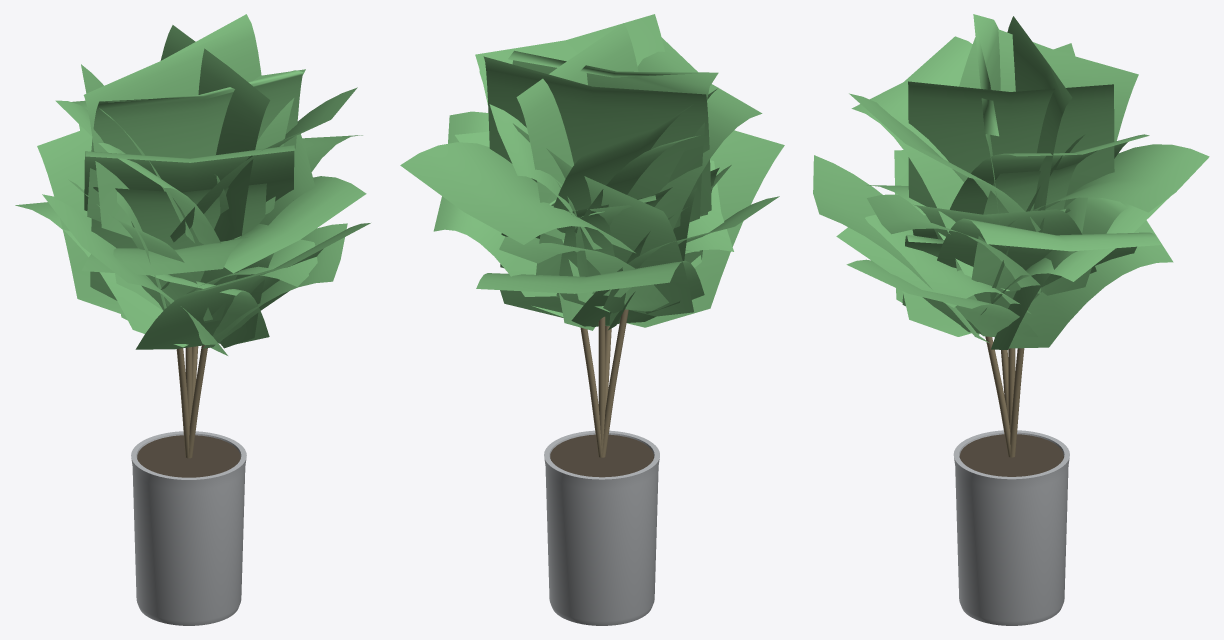
Rendered from ref_palm.fbx.
3 views of the same model, side by side, from view 1: azimuth 30°, elevation 25°; view 2: azimuth 150°, elevation 25°; view 3: azimuth 270°, elevation 25° (orthographic).
Parts seen in each view (by area): view 1: EQ_ref_palm_M_PalmFrond, EQ_ref_palm_M_PlanterGrey, EQ_ref_palm_M_Soil, EQ_ref_palm_M_Stem; view 2: EQ_ref_palm_M_PalmFrond, EQ_ref_palm_M_PlanterGrey, EQ_ref_palm_M_Soil, EQ_ref_palm_M_Stem; view 3: EQ_ref_palm_M_PalmFrond, EQ_ref_palm_M_PlanterGrey, EQ_ref_palm_M_Soil, EQ_ref_palm_M_Stem.
Boxes of the visible parts, x1,y1,x2,y2 form: EQ_ref_palm_M_PalmFrond: (15,14,370,355); EQ_ref_palm_M_PlanterGrey: (131,431,246,625); EQ_ref_palm_M_Soil: (137,435,240,477); EQ_ref_palm_M_Stem: (176,345,207,458); EQ_ref_palm_M_PalmFrond: (400,14,784,330); EQ_ref_palm_M_PlanterGrey: (544,430,659,625); EQ_ref_palm_M_Soil: (550,434,653,477); EQ_ref_palm_M_Stem: (580,309,628,457); EQ_ref_palm_M_PalmFrond: (813,14,1209,349); EQ_ref_palm_M_PlanterGrey: (953,430,1069,625); EQ_ref_palm_M_Soil: (959,434,1063,476); EQ_ref_palm_M_Stem: (985,309,1027,457).
Size of the model in its own units: 1.12 by 1.98 by 1.3.
